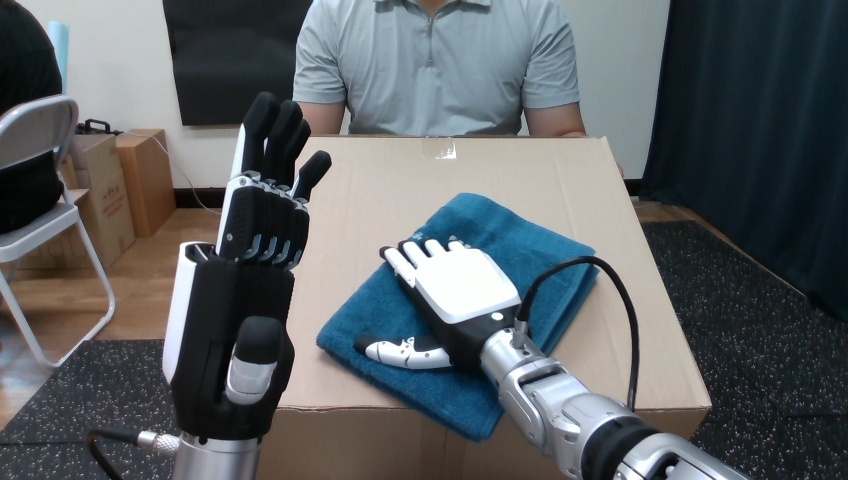left robot hand: (356, 239, 747, 479), (87, 92, 330, 478), (528, 262, 632, 405)
